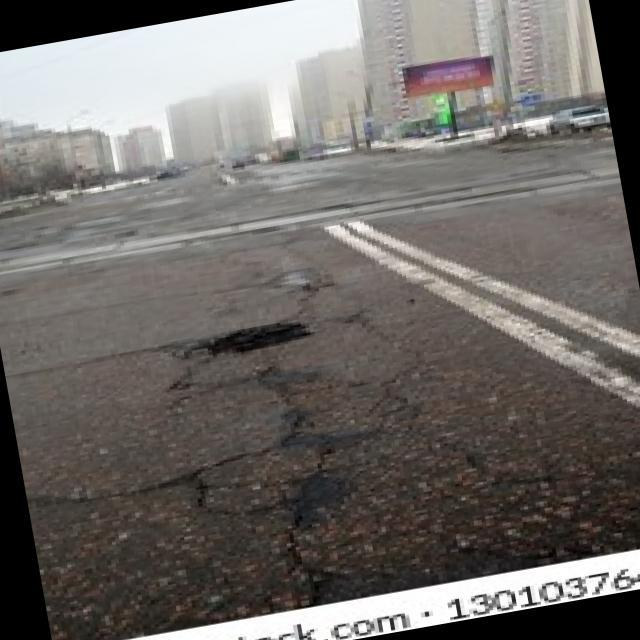Pothole: (199, 316, 314, 362)
